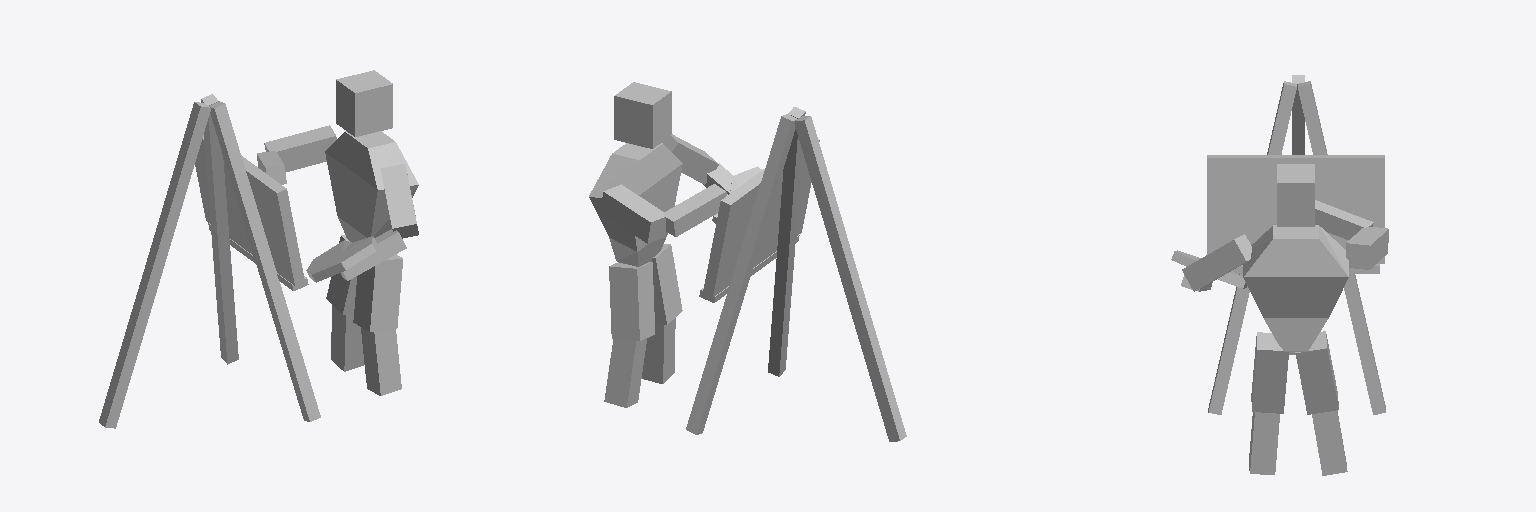
The model's file is ArtandArtist.obj.
3 renders of one model, left to right at view 1: azimuth 30°, elevation 25°; view 2: azimuth 150°, elevation 25°; view 3: azimuth 270°, elevation 25°, orthographic.
Parts seen in each view (by area): view 1: pCube4, pCube6, pCube3, pCube1, pCube2, pCube7, pCube15, pCube14, pCube8, pCube10, pCube16, pCube13 (+3 smaller); view 2: pCube4, pCube2, pCube6, pCube1, pCube3, pCube12, pCube7, pCube8, pCube13, pCube15, pCube9, pCube14 (+1 smaller); view 3: pCube1, pCube6, pCube2, pCube3, pCube15, pCube7, pCube12, pCube10, pCube14, pCube13, pCube8, pCube9 (+2 smaller).
Part boxes in pixels (left/top/right/bottom): pCube4: left=99, top=102, right=210, bottom=428; pCube6: left=325, top=131, right=418, bottom=242; pCube3: left=209, top=101, right=320, bottom=421; pCube1: left=195, top=135, right=304, bottom=285; pCube2: left=201, top=94, right=238, bottom=364; pCube7: left=336, top=70, right=392, bottom=136; pCube15: left=353, top=254, right=402, bottom=331; pCube14: left=361, top=327, right=401, bottom=395; pCube8: left=264, top=125, right=336, bottom=171; pCube10: left=381, top=164, right=418, bottom=238; pCube16: left=306, top=236, right=376, bottom=282; pCube13: left=331, top=305, right=364, bottom=371; pCube4: left=794, top=116, right=906, bottom=441; pCube2: left=686, top=114, right=796, bottom=434; pCube6: left=589, top=143, right=682, bottom=266; pCube1: left=703, top=139, right=819, bottom=297; pCube3: left=768, top=107, right=805, bottom=376; pCube12: left=609, top=262, right=654, bottom=340; pCube7: left=614, top=82, right=671, bottom=148; pCube8: left=600, top=184, right=665, bottom=243; pCube13: left=604, top=338, right=646, bottom=407; pCube15: left=652, top=244, right=682, bottom=324; pCube9: left=663, top=184, right=726, bottom=236; pCube14: left=642, top=318, right=675, bottom=383; pCube1: left=1207, top=155, right=1384, bottom=263; pCube6: left=1243, top=225, right=1348, bottom=354; pCube2: left=1298, top=81, right=1385, bottom=414; pCube3: left=1208, top=81, right=1296, bottom=414; pCube15: left=1251, top=332, right=1288, bottom=413; pCube7: left=1277, top=164, right=1314, bottom=226; pCube12: left=1295, top=331, right=1338, bottom=414; pCube10: left=1182, top=234, right=1251, bottom=291; pCube14: left=1249, top=411, right=1279, bottom=474; pCube13: left=1312, top=410, right=1347, bottom=475; pCube8: left=1346, top=227, right=1388, bottom=269; pCube9: left=1315, top=200, right=1373, bottom=239.
Bounding box in the file's own units: 5.85 × 6.09 × 3.81.